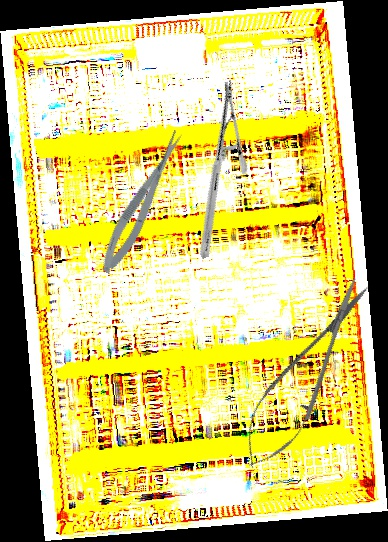Micro Scissor: (227, 267, 385, 481), (92, 126, 194, 279)
Needle Holder: (145, 79, 288, 260)
